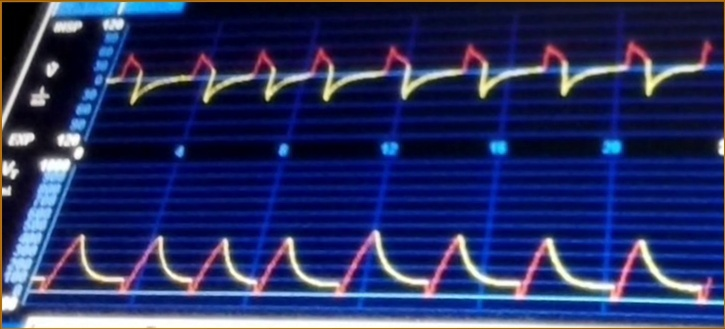Flow: (118, 26, 710, 132)
Leakage Volume: (52, 203, 708, 312)
